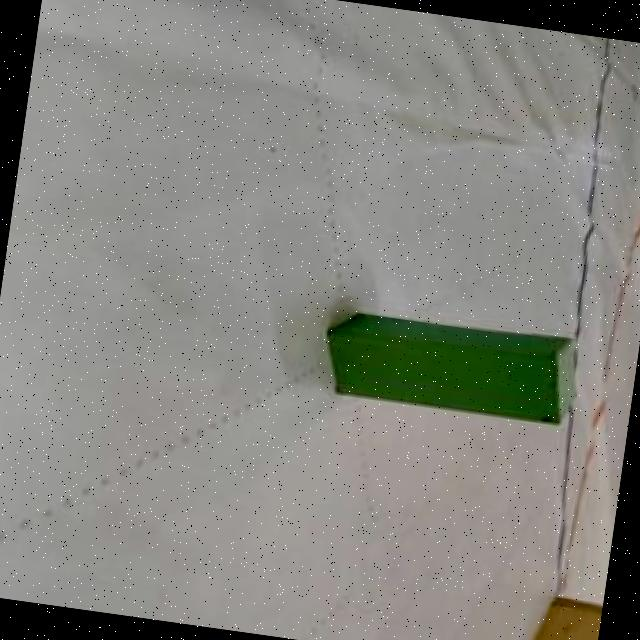greenbox: (315, 301, 586, 431)
